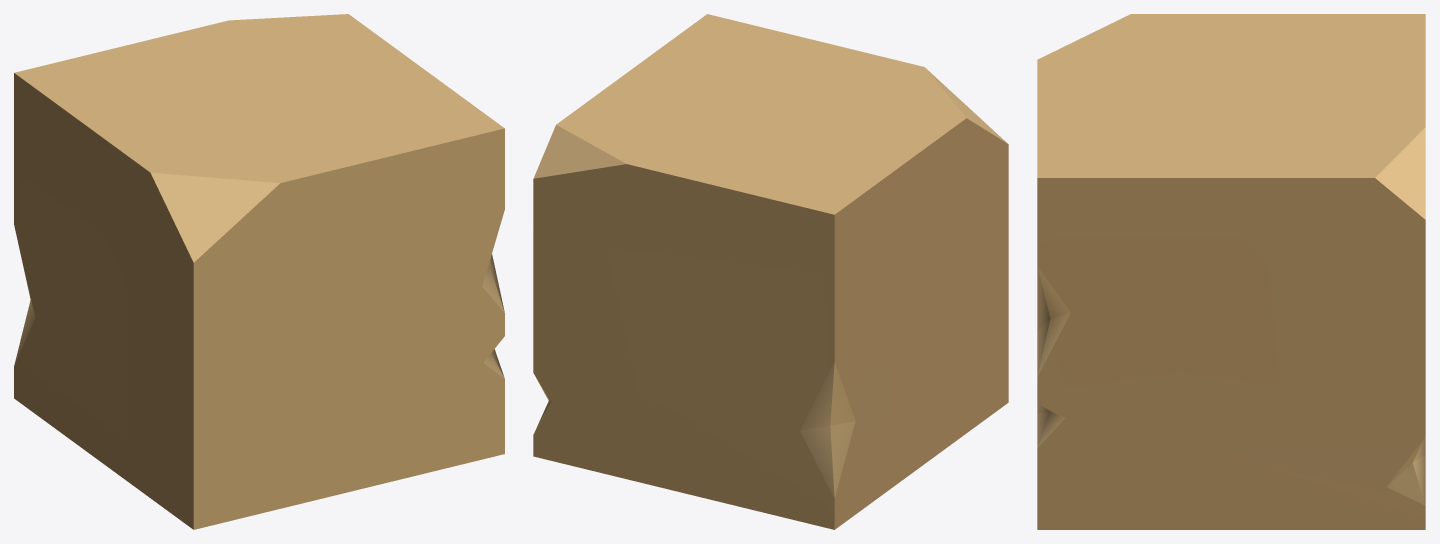
Rendered from ST_Env_Block_01.fbx.
3 views of the same model, side by side, from view 1: azimuth 30°, elevation 25°; view 2: azimuth 150°, elevation 25°; view 3: azimuth 270°, elevation 25° (orthographic). The views are drawn at different scales.
Visible parts, largest first — view 1: ST_Env_Block_01; view 2: ST_Env_Block_01; view 3: ST_Env_Block_01.
Part boxes in pixels (x1,y1,x2,y2): ST_Env_Block_01: [14, 14, 504, 529]; ST_Env_Block_01: [533, 14, 1008, 529]; ST_Env_Block_01: [1037, 14, 1425, 529].
Bounding box in the file's own units: 5 × 5 × 5.
